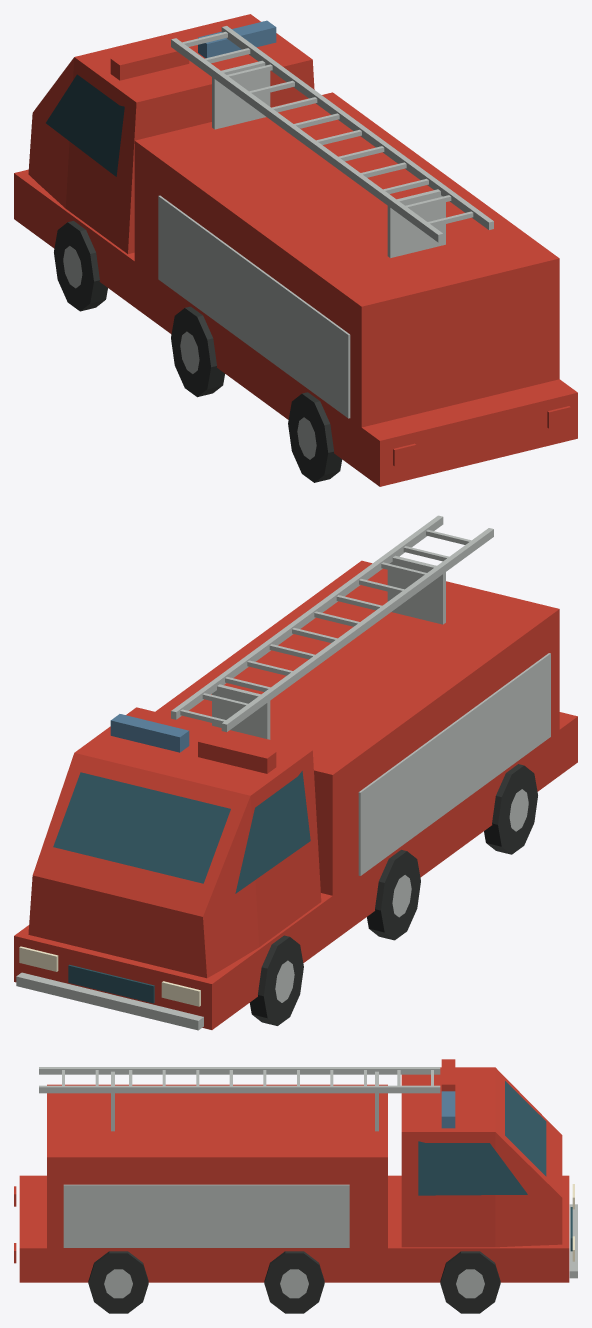
The model's file is fire_engine.glb.
The picture shows the model from 3 angles, top to bottom: view 1: azimuth 30°, elevation 25°; view 2: azimuth 150°, elevation 25°; view 3: azimuth 270°, elevation 25°; orthographic projection. The views are drawn at different scales.
Parts seen in each view (by area): view 1: FireEngineModel traffic_red, FireEngineModel traffic_metal, FireEngineModel traffic_rubber, FireEngineModel traffic_glass, Emergency beacon.001; view 2: FireEngineModel traffic_red, FireEngineModel traffic_metal, FireEngineModel traffic_glass, FireEngineModel traffic_rubber, Emergency beacon.001, FireEngineModel traffic_light; view 3: FireEngineModel traffic_red, FireEngineModel traffic_metal, FireEngineModel traffic_glass, FireEngineModel traffic_rubber, Emergency beacon.001.
Part boxes in pixels (bbox=[...]): FireEngineModel traffic_red: bbox=[14, 14, 577, 486]; FireEngineModel traffic_metal: bbox=[63, 26, 493, 459]; FireEngineModel traffic_rubber: bbox=[54, 221, 342, 482]; FireEngineModel traffic_glass: bbox=[46, 74, 124, 176]; Emergency beacon.001: bbox=[198, 20, 276, 58]; FireEngineModel traffic_red: bbox=[14, 560, 577, 1029]; FireEngineModel traffic_metal: bbox=[16, 515, 550, 1030]; FireEngineModel traffic_glass: bbox=[53, 771, 310, 1003]; FireEngineModel traffic_rubber: bbox=[250, 764, 537, 1025]; Emergency beacon.001: bbox=[110, 714, 189, 752]; FireEngineModel traffic_light: bbox=[19, 946, 200, 1006]; FireEngineModel traffic_red: bbox=[14, 1059, 569, 1282]; FireEngineModel traffic_metal: bbox=[39, 1067, 577, 1298]; FireEngineModel traffic_glass: bbox=[418, 1081, 572, 1251]; FireEngineModel traffic_rubber: bbox=[88, 1251, 500, 1313]; Emergency beacon.001: bbox=[441, 1091, 455, 1128].
Size of the model in its own units: 2.68 by 3.18 by 8.21.
